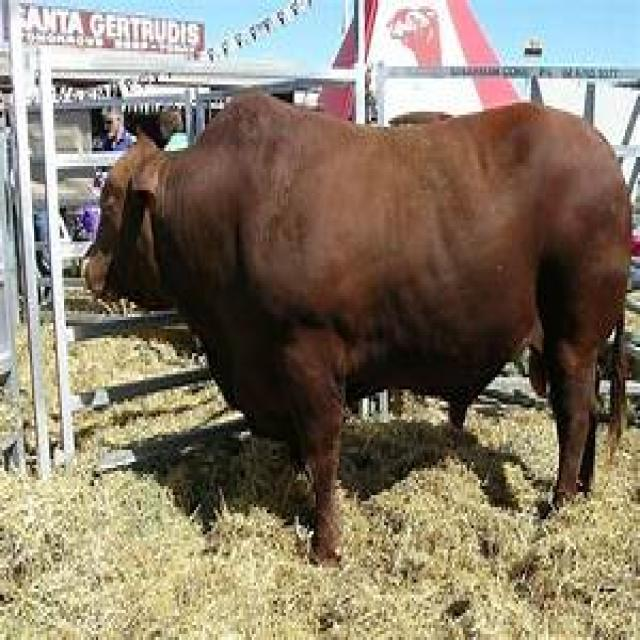cow: (86, 94, 629, 560)
